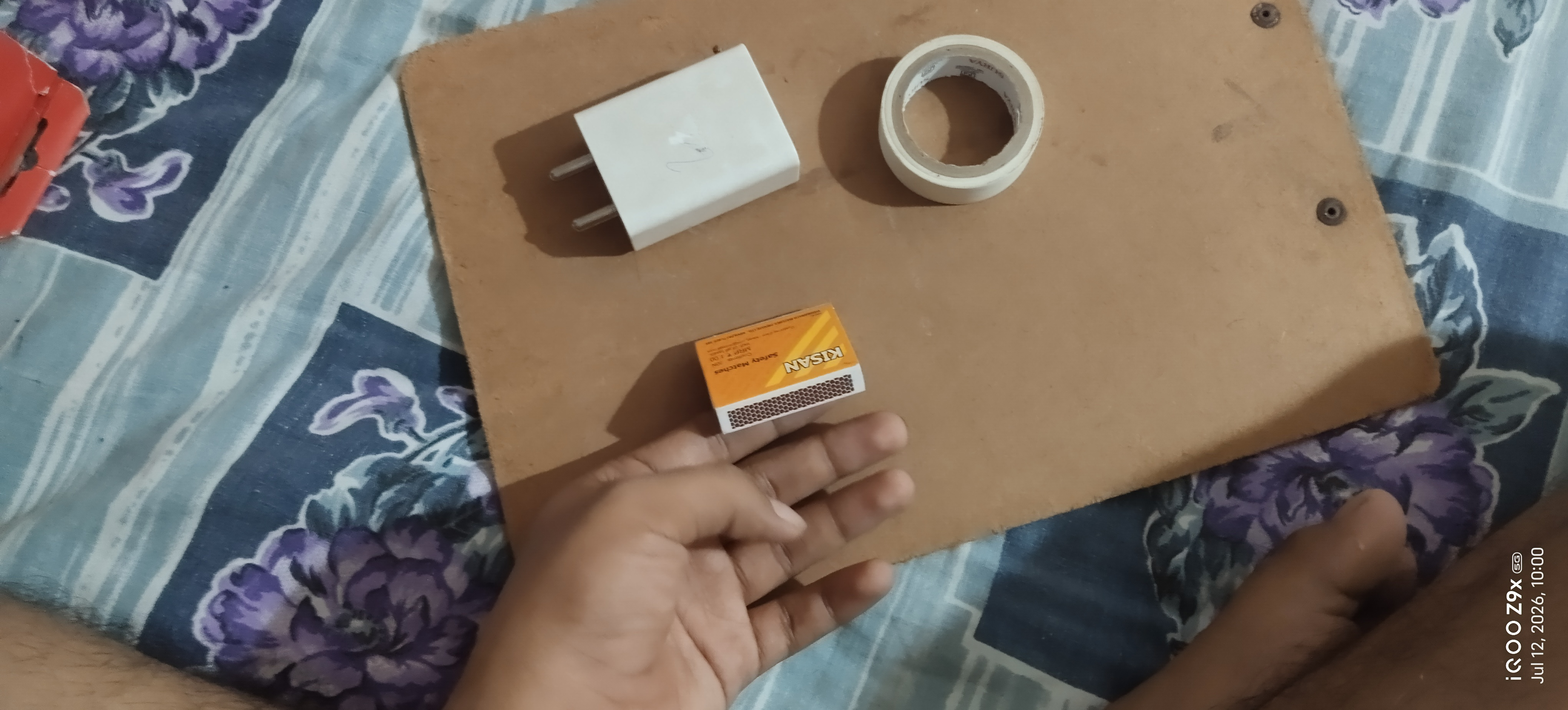charger: (524, 38, 828, 267)
matchbox: (669, 297, 897, 439)
tape_roll: (860, 24, 1057, 216)
